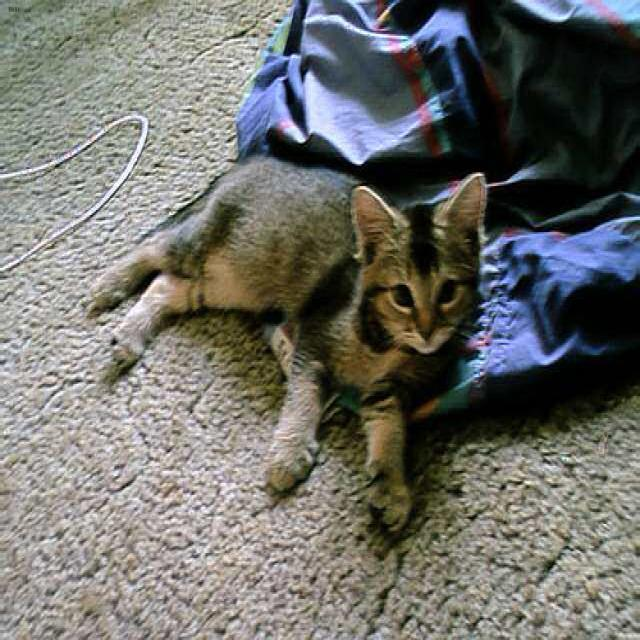Abyssinian: (350, 169, 485, 352)
